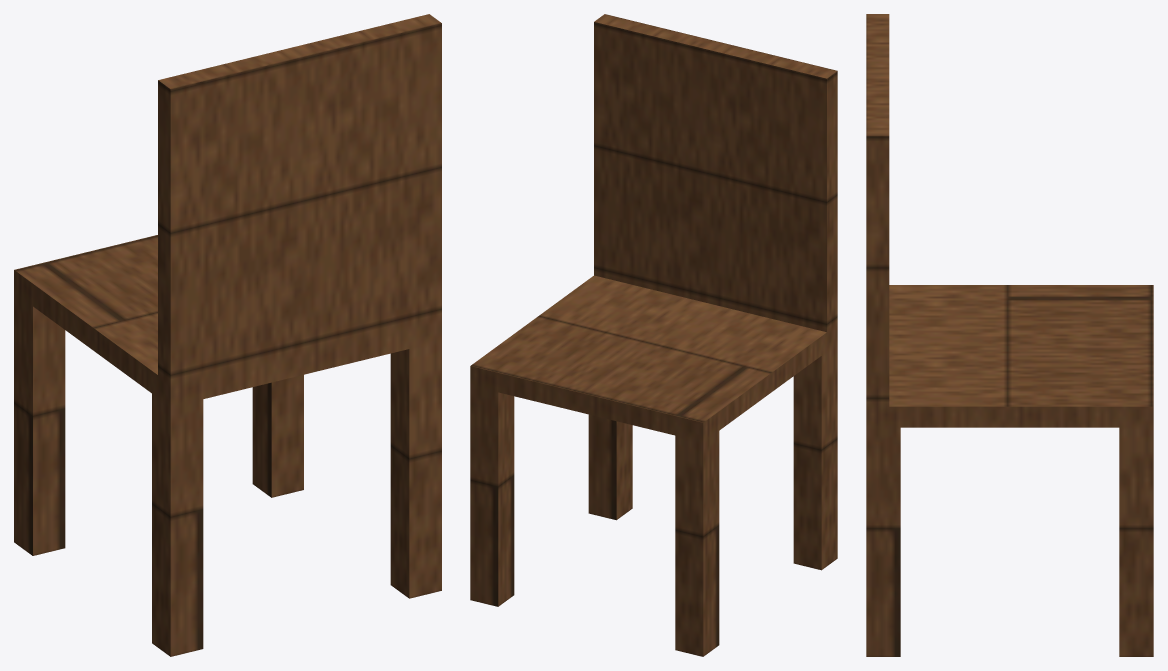
The model's file is chair.obj.
3 views of the same model, side by side, from view 1: azimuth 30°, elevation 25°; view 2: azimuth 150°, elevation 25°; view 3: azimuth 270°, elevation 25° (orthographic). The views are drawn at different scales.
Parts seen in each view (by area): view 1: wood; view 2: wood; view 3: wood.
Boxes of the visible parts, <box> form: wood: <box>14,14,441,656</box>; wood: <box>470,14,837,656</box>; wood: <box>866,14,1153,656</box>.
Size of the model in its own units: 0.5 by 1 by 0.5.
1 material, 1 textured.
